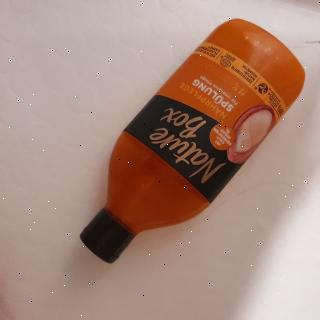Plastic-bottle: (76, 17, 309, 271)
